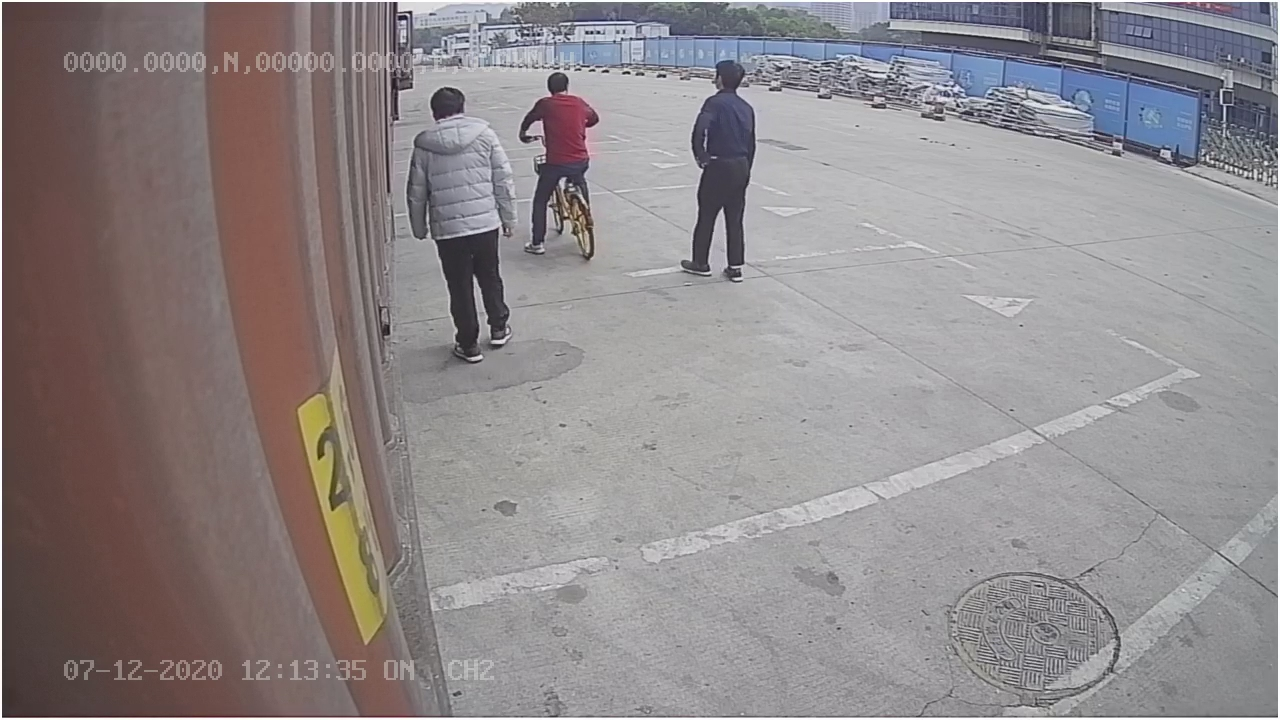person: (407, 81, 522, 362), (677, 53, 763, 287)
